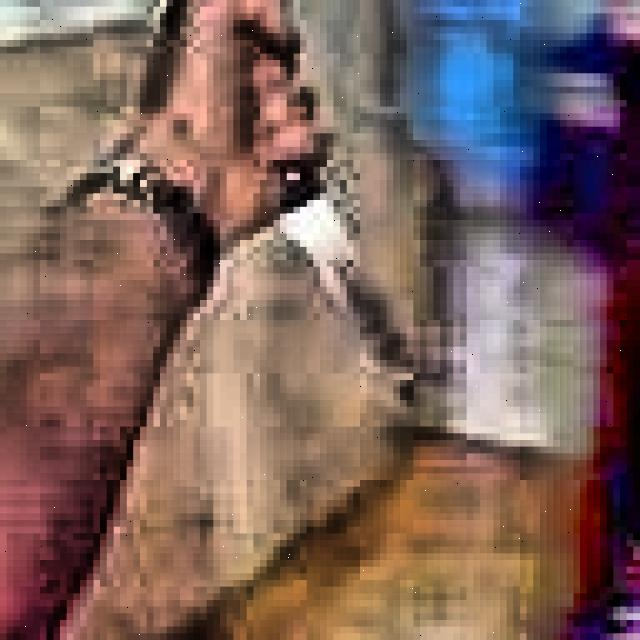knife: (171, 4, 419, 408)
